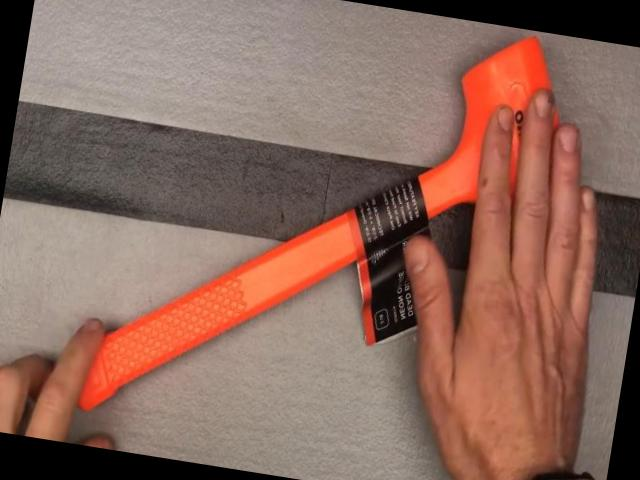hammer: (55, 0, 601, 478)
